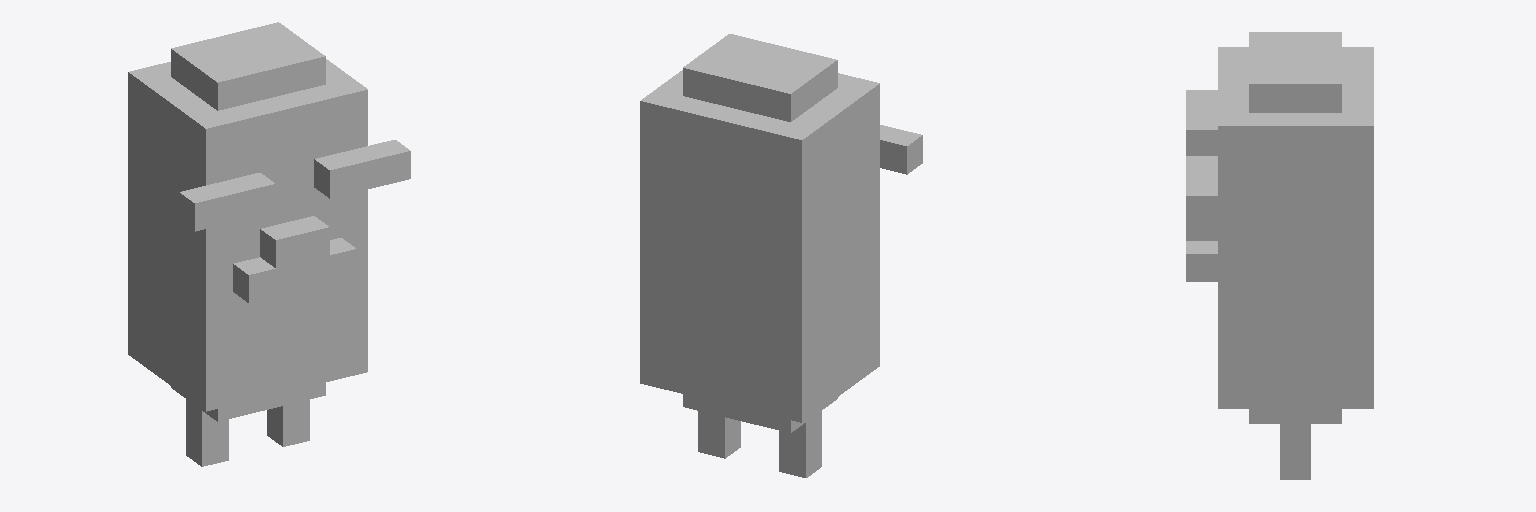
The model's file is bean boi - pill.obj.
The picture shows the model from 3 angles: view 1: azimuth 30°, elevation 25°; view 2: azimuth 150°, elevation 25°; view 3: azimuth 270°, elevation 25°; orthographic projection.
Parts seen in each view (by area): view 1: object 1; view 2: object 1; view 3: object 1.
Part boxes in pixels (x1,y1,x2,y2): object 1: (128,22,410,466); object 1: (640,34,922,477); object 1: (1186,32,1373,479).
Size of the model in its own units: 0.8 by 1.4 by 0.6.